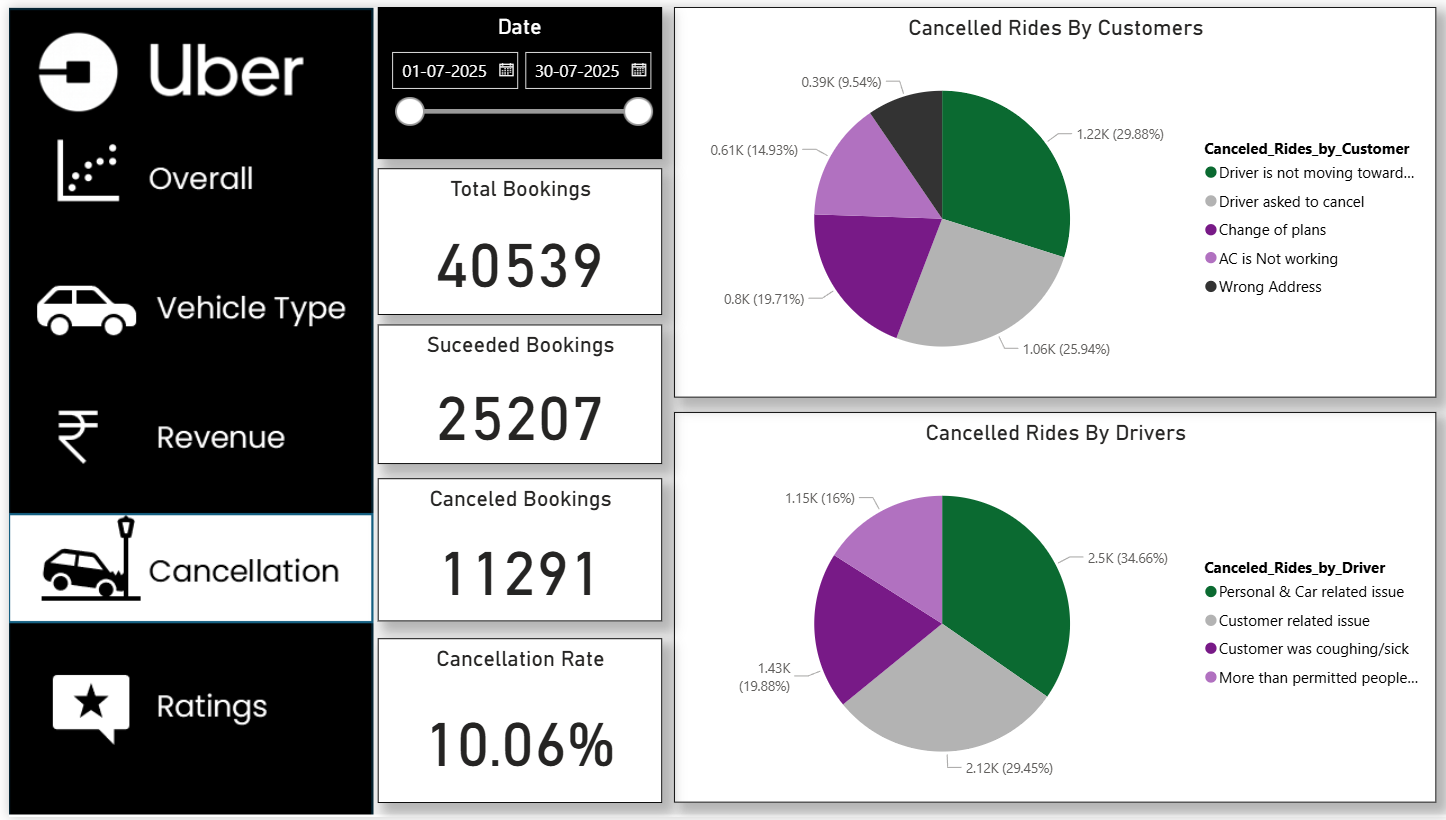

This screenshot's page, from the dashboard's own definition file:
{"tool":"powerbi","page":{"name":"Cancellation","canvas":[1280,720],"ordinal":3},"visuals":[{"type":"actionButton","box":[0,107,323.2,91.5],"z":0},{"type":"actionButton","box":[0,227.6,323.2,91.5],"z":1000},{"type":"actionButton","box":[0,336.7,323.2,91.5],"z":2000},{"type":"actionButton","box":[0,582,323.2,91.5],"z":3000},{"type":"pieChart","title":"Cancelled Rides By Drivers","fields":{"Category":["July.Canceled_Rides_by_Driver"],"Y":["CountNonNull(July.Canceled_Rides_by_Driver)"]},"box":[591.2,360,677.5,347.5],"z":4000},{"type":"pieChart","title":"Cancelled Rides By Customers","fields":{"Category":["July.Canceled_Rides_by_Customer"],"Y":["CountNonNull(July.Canceled_Rides_by_Customer)"]},"box":[591.2,0,677.5,347.5],"z":5000},{"type":"slicer","title":"Date","fields":{"Values":["July.Date"]},"box":[327.5,0,252.5,135],"z":6000},{"type":"card","title":"Total Bookings","fields":{"Values":["CountNonNull(July.Booking_ID)"]},"box":[327.5,143.8,252.5,130],"z":7000},{"type":"card","title":"Suceeded Bookings","fields":{"Values":["CountNonNull(July.Booking_ID)"]},"box":[327.5,282.5,252.5,123.8],"z":8000},{"type":"card","title":"Canceled Bookings","fields":{"Values":["CountNonNull(July.Booking_ID)"]},"box":[327.5,418.8,252.5,127.5],"z":9000},{"type":"card","title":"Cancellation Rate","fields":{"Values":["July.CanceledBookingsCount"]},"box":[327.5,561.2,252.5,146.2],"z":10000}]}

Visuals, with their boxes in screenshot pixels (x1, y1, x2, y2), scaled from the page's 1280x720 canvas onto the 1446x820 screenshot:
actionButton: 0:122:365:226
actionButton: 0:259:365:363
actionButton: 0:383:365:488
actionButton: 0:663:365:767
"Cancelled Rides By Drivers" pieChart: 668:410:1433:806
"Cancelled Rides By Customers" pieChart: 668:0:1433:396
"Date" slicer: 370:0:655:154
"Total Bookings" card: 370:164:655:312
"Suceeded Bookings" card: 370:322:655:463
"Canceled Bookings" card: 370:477:655:622
"Cancellation Rate" card: 370:639:655:806
